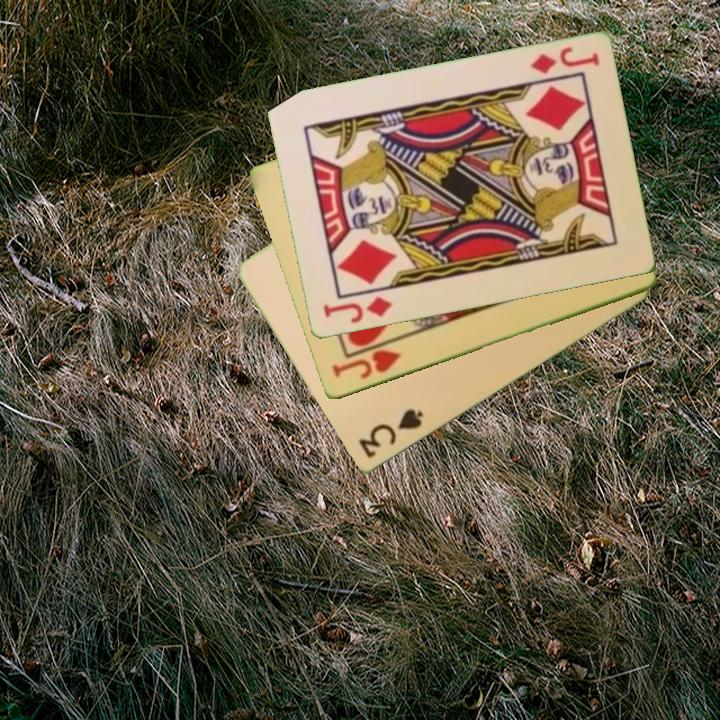3s: (354, 406, 426, 462)
Jd: (526, 43, 602, 78), (319, 293, 395, 327)
Jh: (328, 346, 404, 383)
